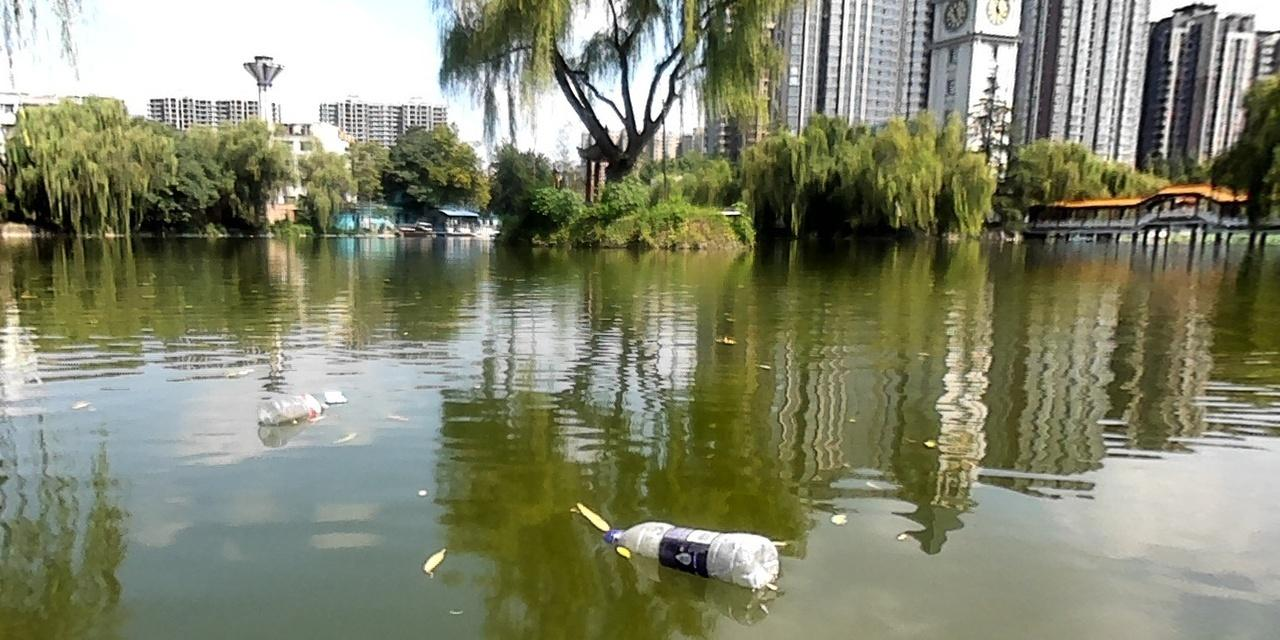bottle: (599, 517, 781, 591), (257, 387, 325, 422), (321, 383, 346, 402)
